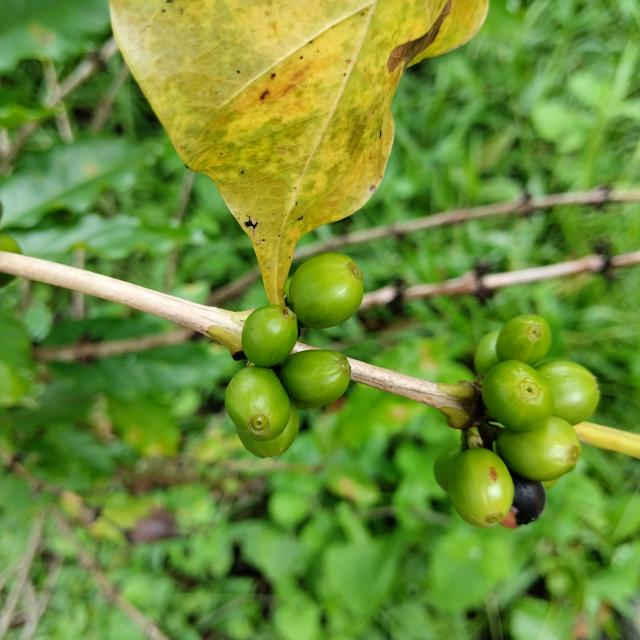green: (289, 253, 364, 329), (497, 416, 582, 482), (449, 448, 515, 529), (482, 360, 554, 432), (225, 366, 290, 442), (536, 360, 601, 426), (279, 350, 351, 409), (238, 400, 300, 458), (241, 305, 298, 368), (497, 314, 552, 366), (434, 445, 462, 492), (475, 330, 501, 374)
red: (501, 473, 547, 530)
